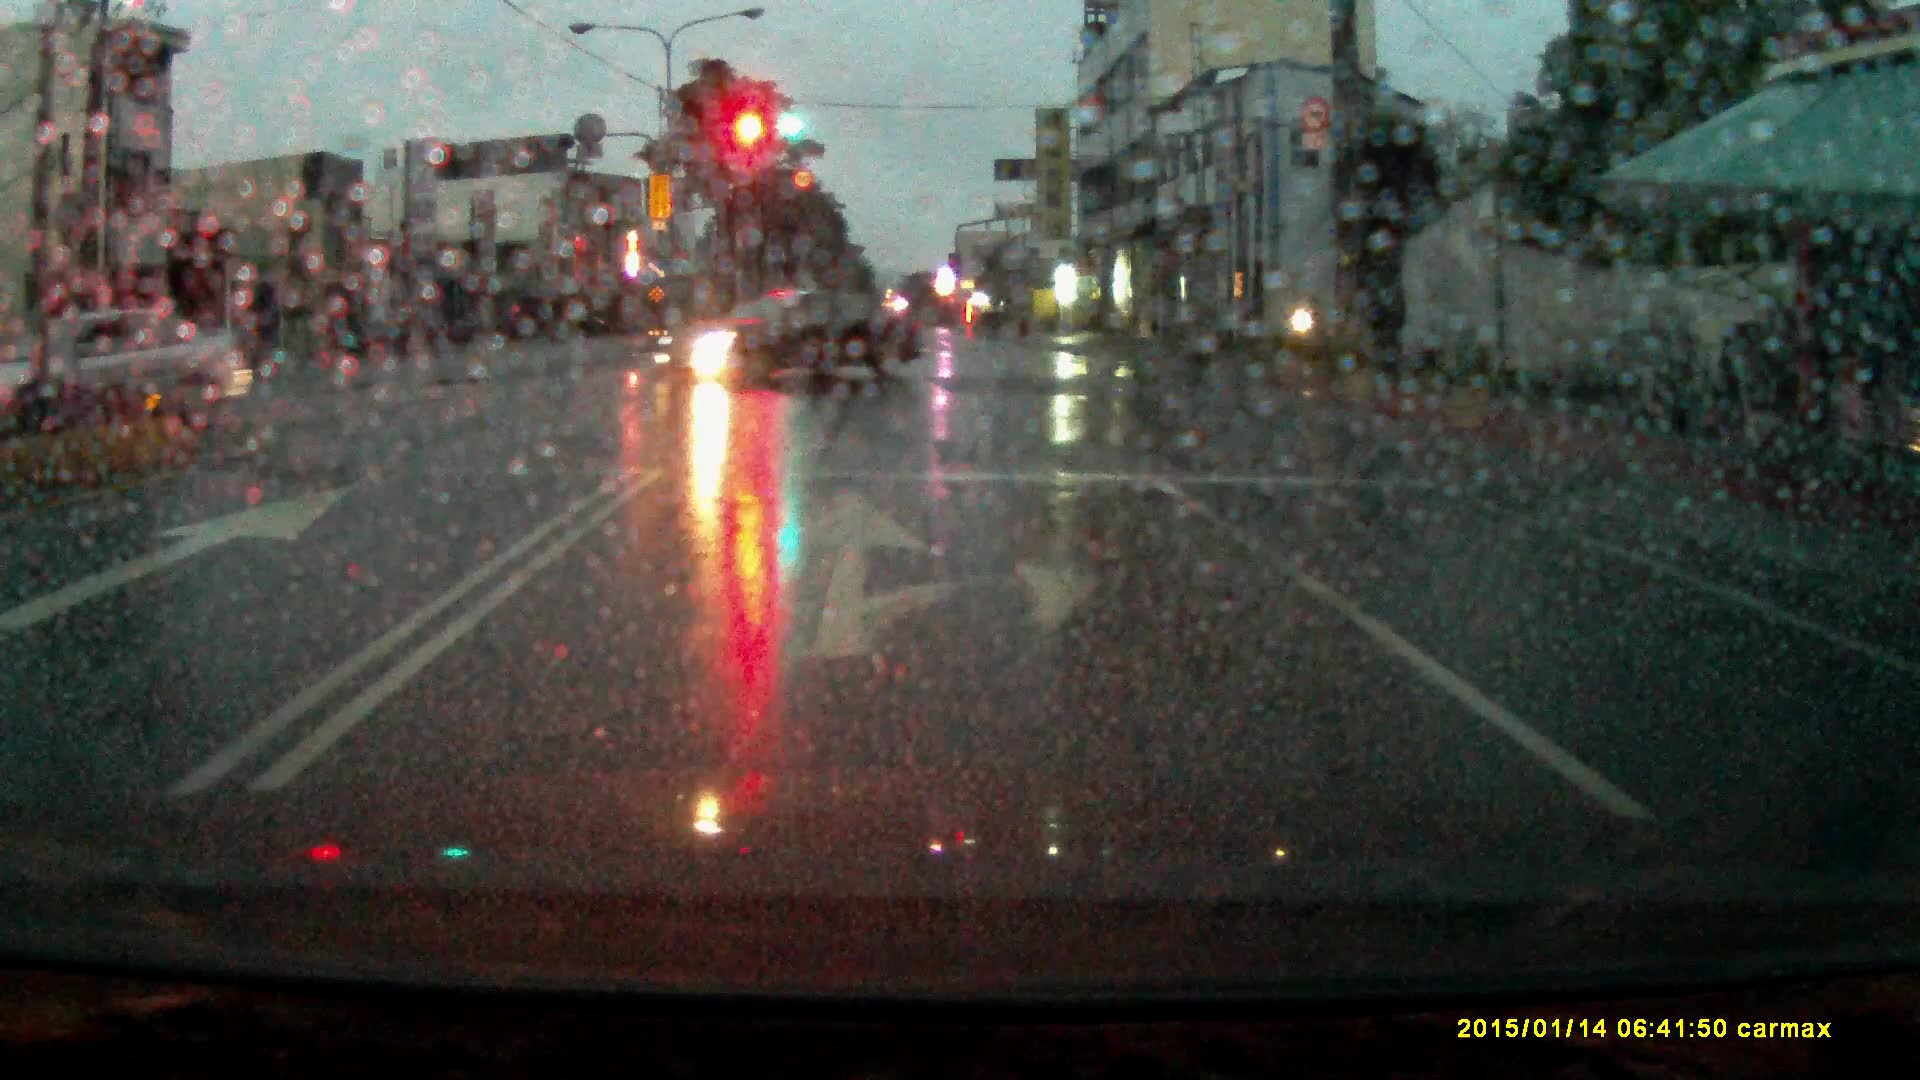rider: (1286, 283, 1327, 353)
vehicle: (4, 308, 257, 425), (648, 289, 916, 394)
